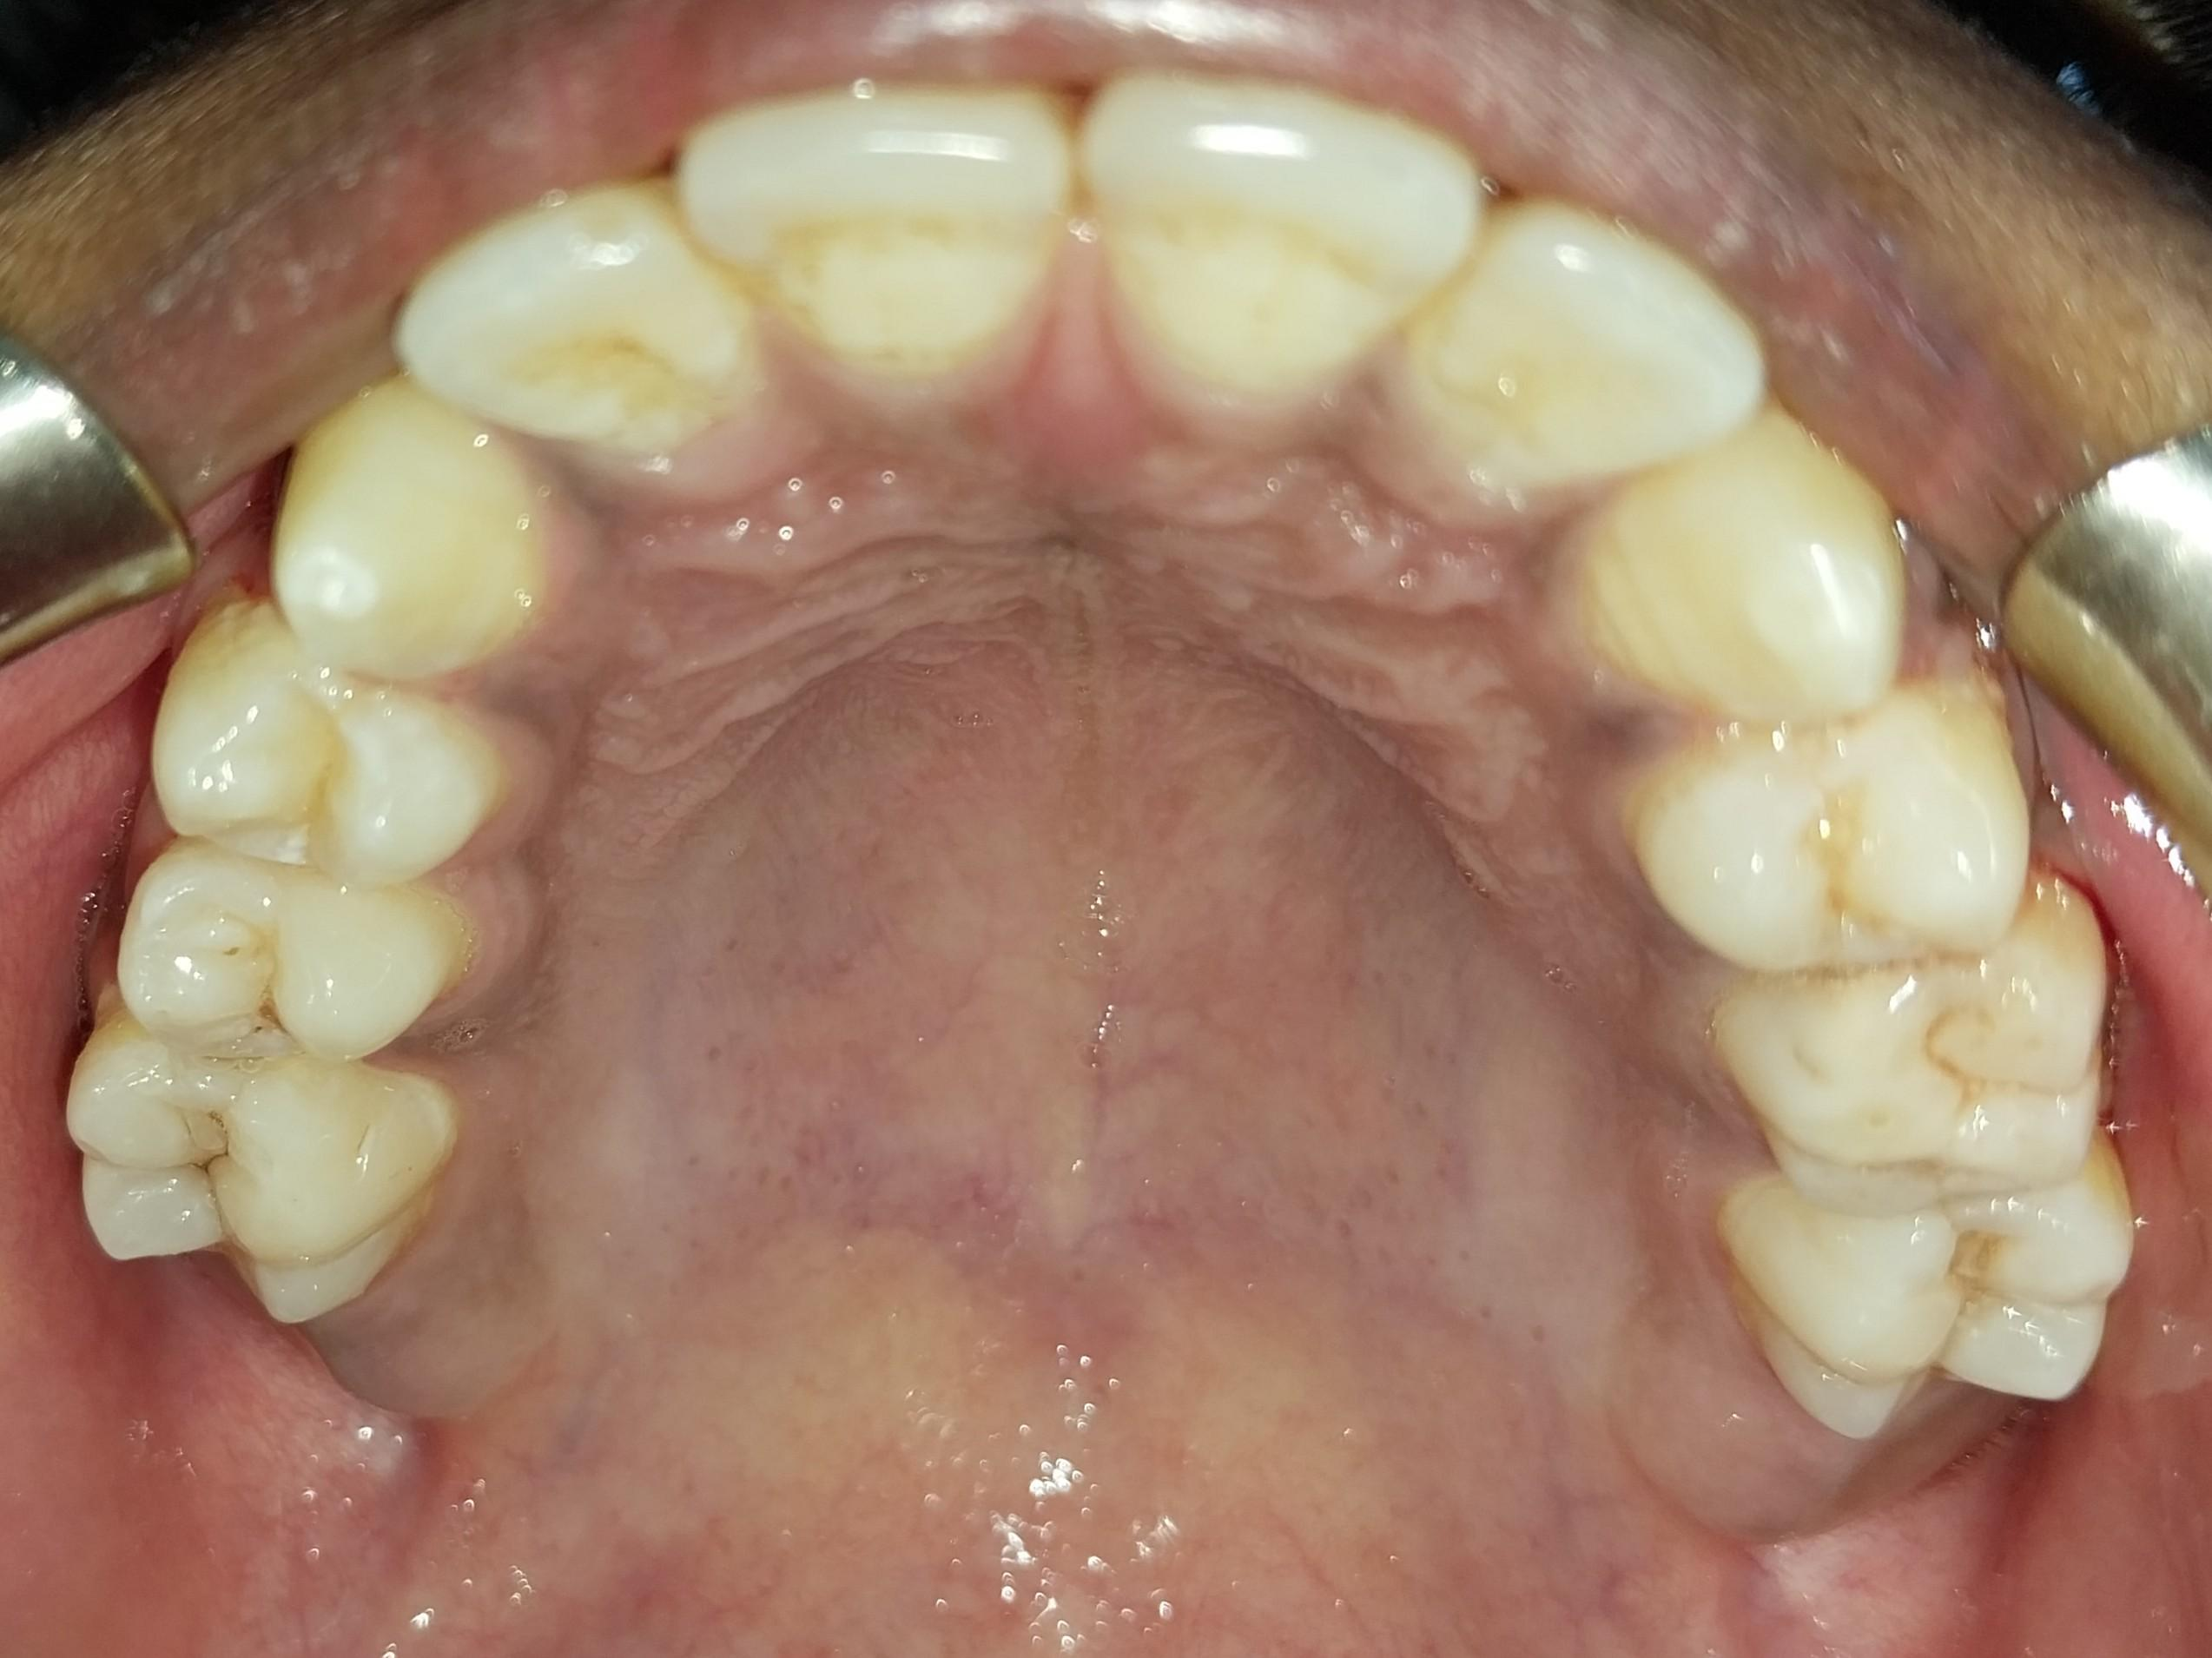D: (62, 1027, 446, 1324), (109, 837, 463, 1060)
